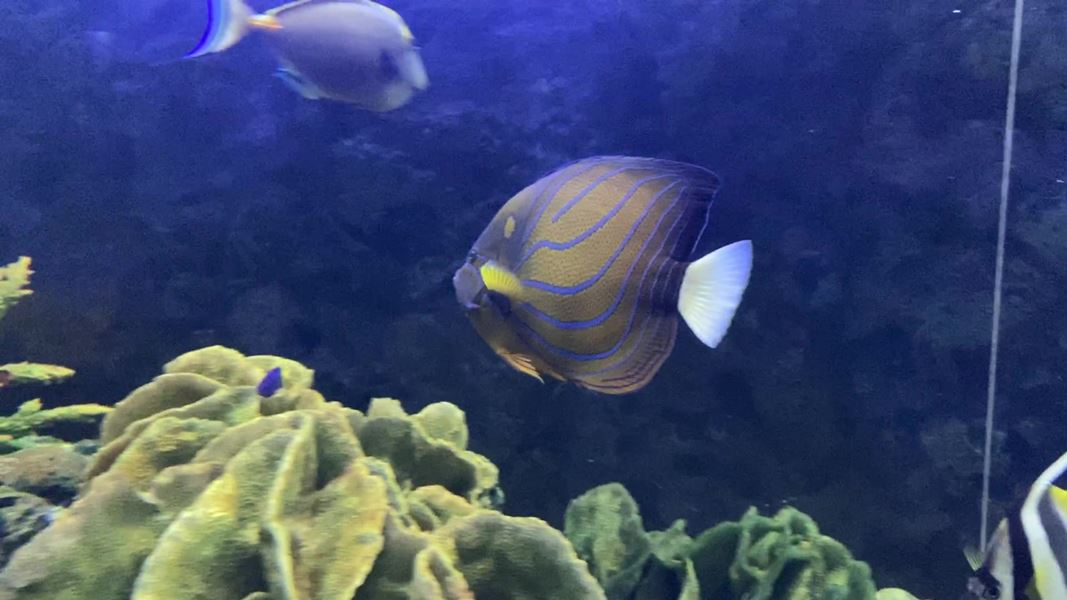Blue ring angelfish: (418, 144, 771, 409)
